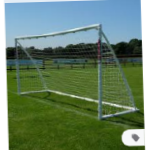goals: (14, 18, 139, 120)
